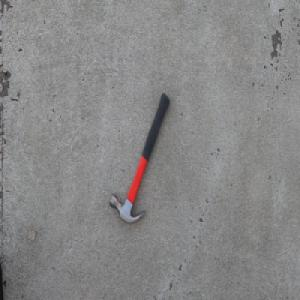Hammer: (109, 92, 171, 224)
